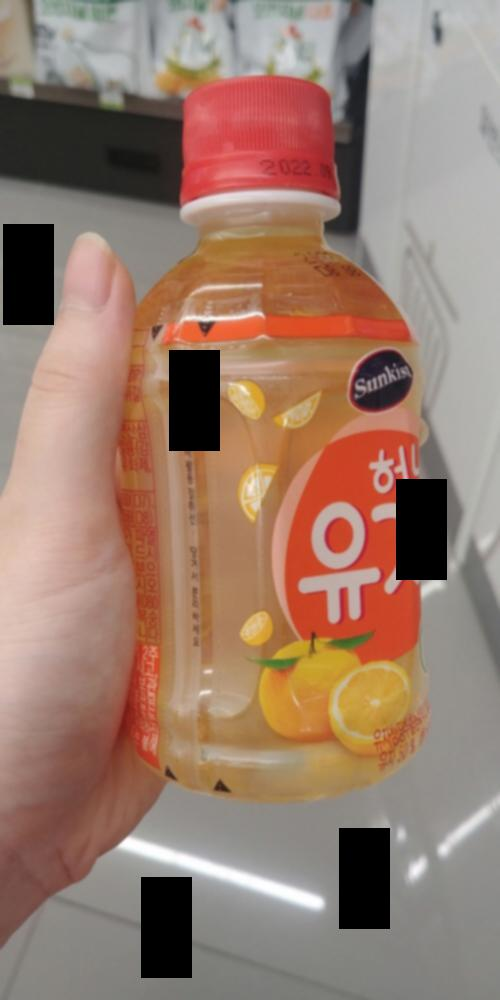honeyyuja: (102, 70, 461, 797)
